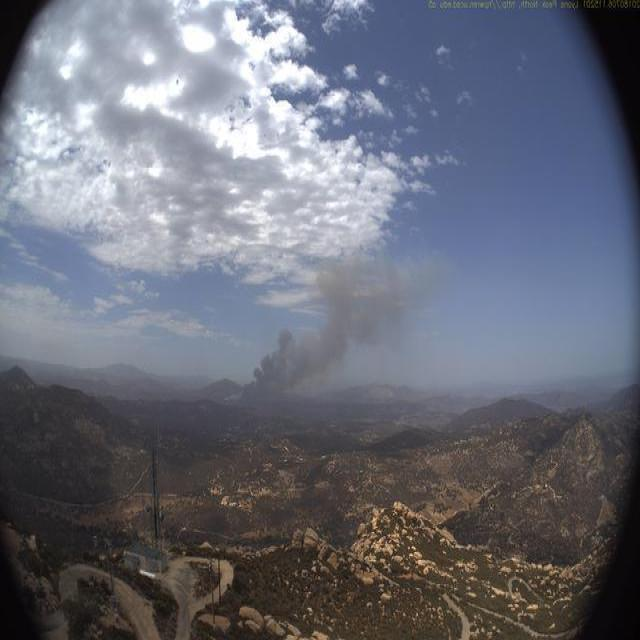Smoke: (219, 238, 441, 418)
